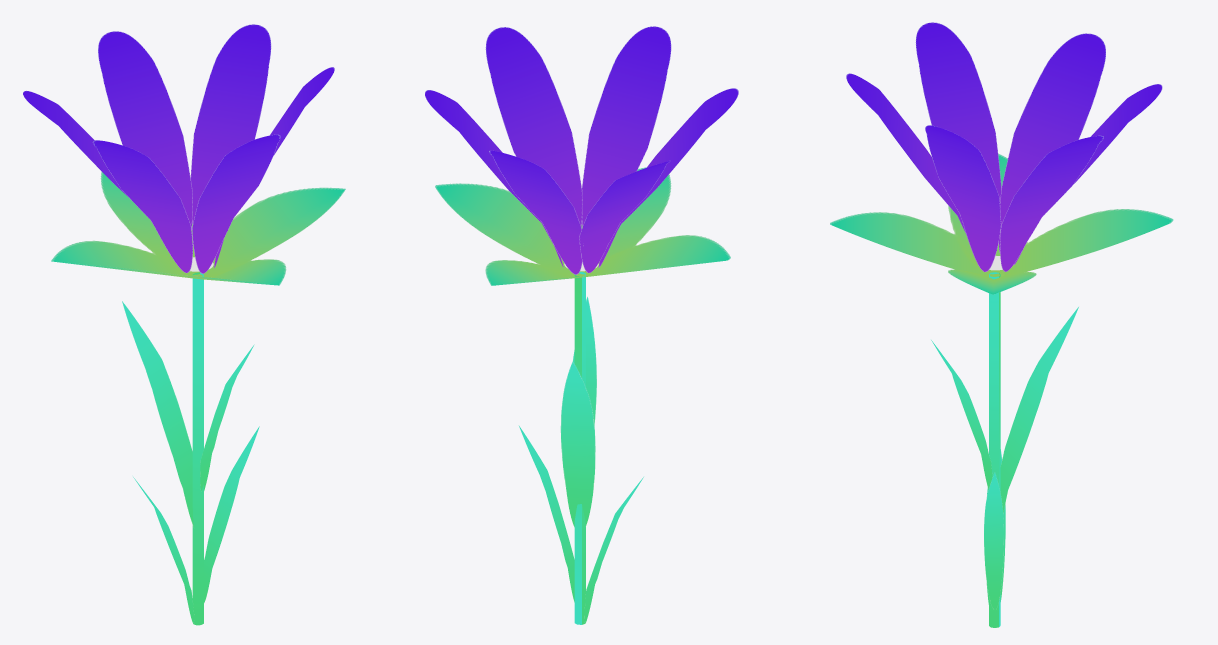
File: Flowers_n03_28.fbx
The picture shows the model from 3 angles, left to right: view 1: azimuth 30°, elevation 25°; view 2: azimuth 150°, elevation 25°; view 3: azimuth 270°, elevation 25°; orthographic projection.
Parts seen in each view (by area): view 1: polySurface744; view 2: polySurface744; view 3: polySurface744.
Part boxes in pixels (x1,y1,x2,y2): polySurface744: [23, 24, 345, 625]; polySurface744: [425, 26, 738, 624]; polySurface744: [830, 22, 1173, 627].
Size of the model in its own units: 52.4 by 80.5 by 52.38.
Materials: 1 (1 with a texture image).
